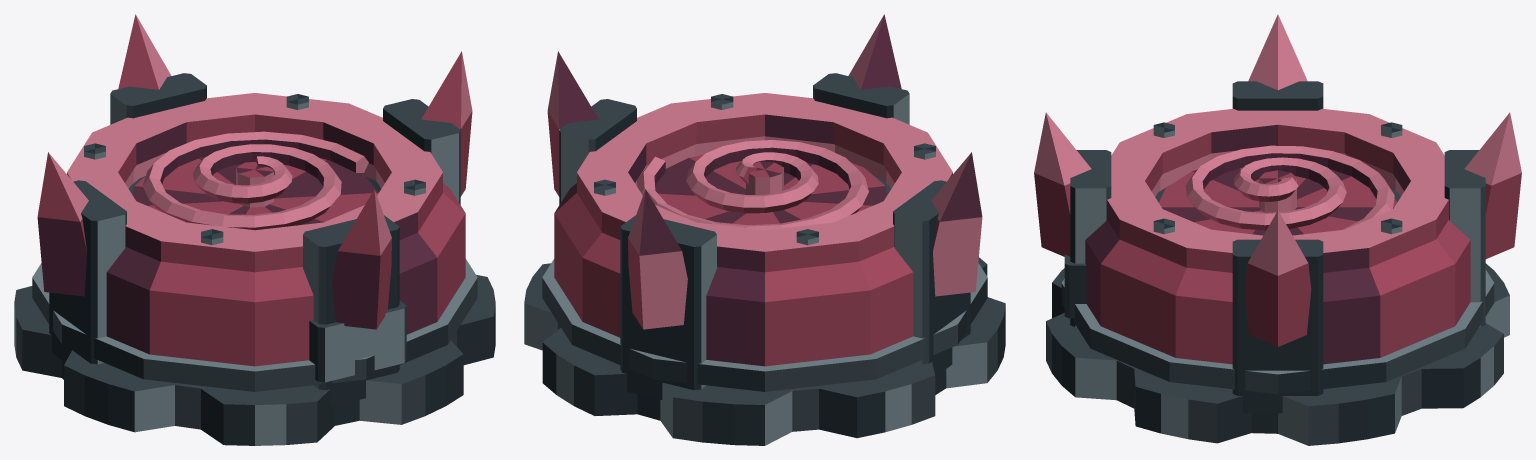
The model's file is reidite_extractor.fbx.
The picture shows the model from 3 angles, left to right: view 1: azimuth 30°, elevation 25°; view 2: azimuth 150°, elevation 25°; view 3: azimuth 270°, elevation 25°; orthographic projection. The views are drawn at different scales.
Parts seen in each view (by area): view 1: reidite_extractor_body, reidite_extractor_rotor; view 2: reidite_extractor_body, reidite_extractor_rotor; view 3: reidite_extractor_body, reidite_extractor_rotor.
Part boxes in pixels (left/top/right/bottom): reidite_extractor_body: left=14, top=14, right=495, bottom=445; reidite_extractor_rotor: left=133, top=131, right=378, bottom=230; reidite_extractor_body: left=524, top=14, right=1005, bottom=445; reidite_extractor_rotor: left=637, top=140, right=886, bottom=230; reidite_extractor_body: left=1034, top=14, right=1521, bottom=445; reidite_extractor_rotor: left=1159, top=145, right=1396, bottom=235.
Size of the model in its own units: 3.34 by 1.78 by 3.34.
1 material, 1 textured.
